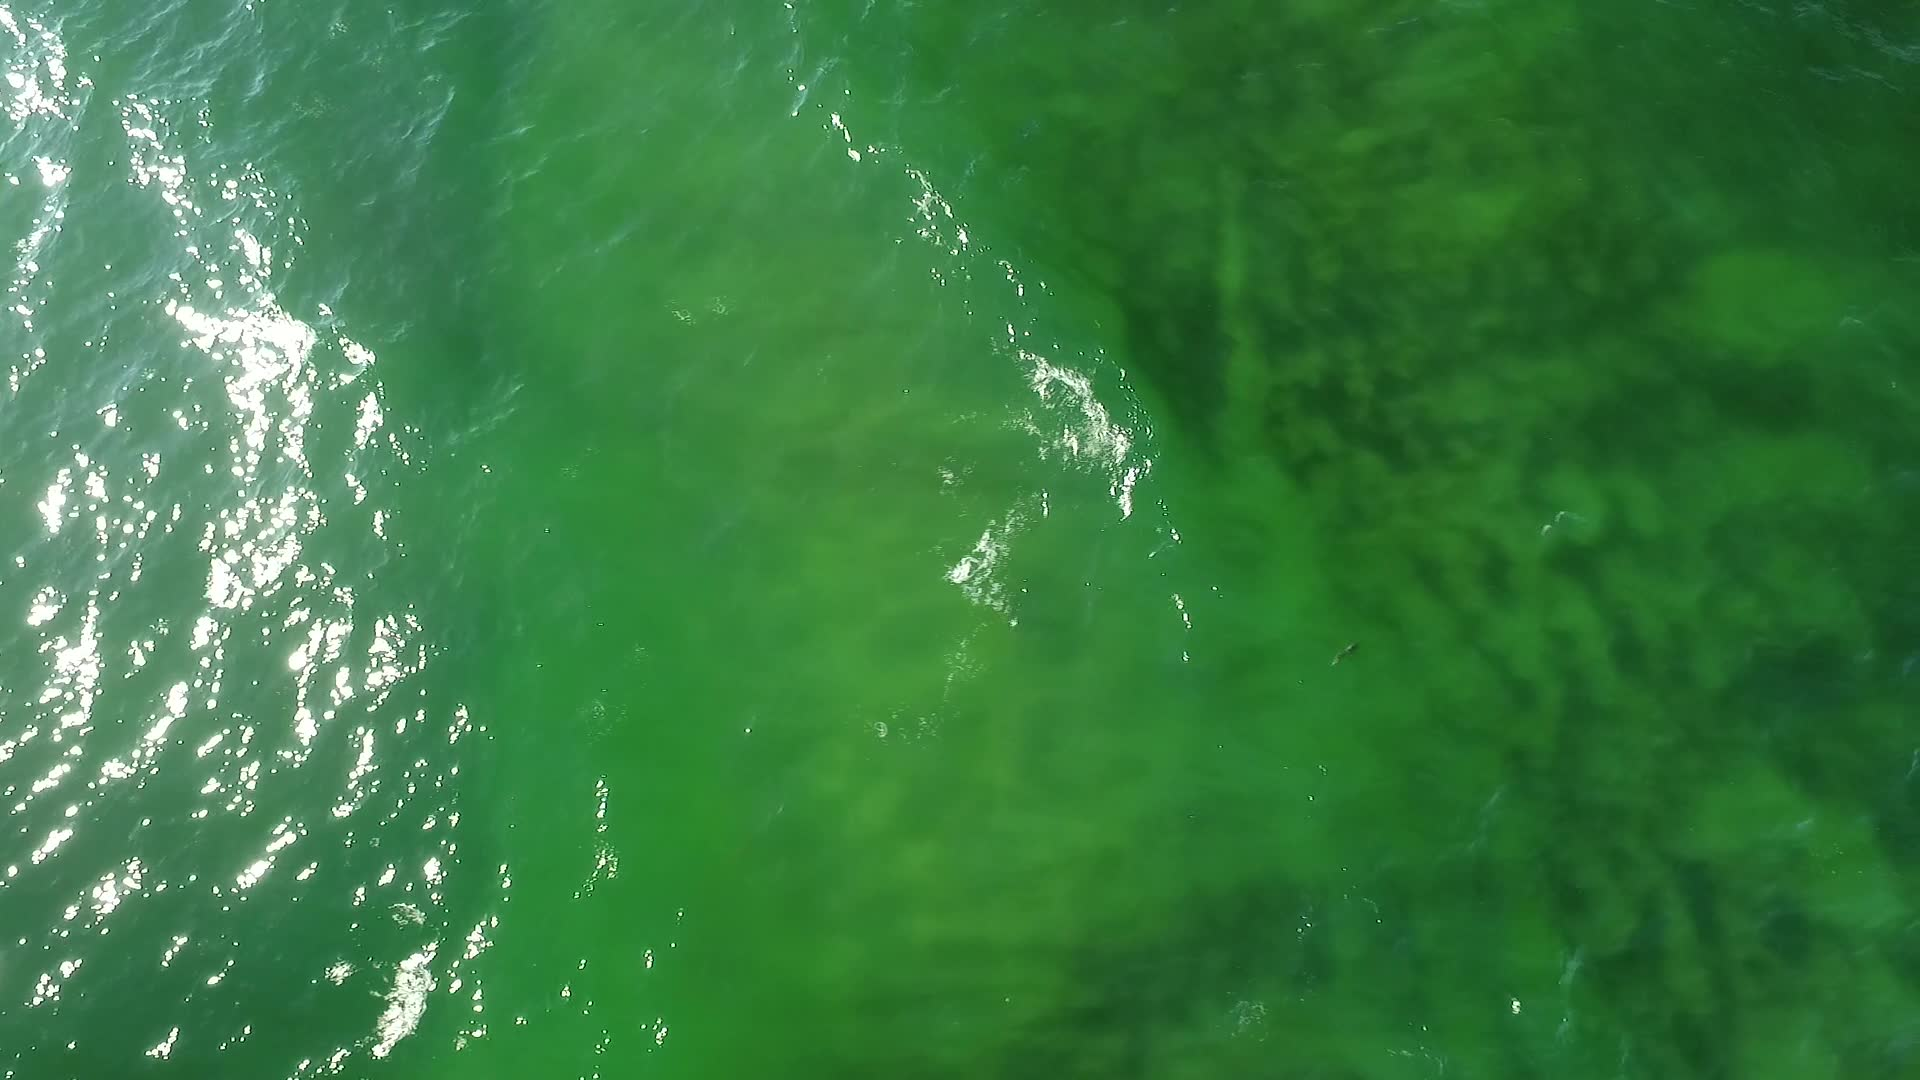shark: (1325, 640, 1364, 669)
